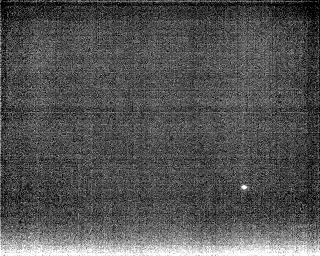AIRPLANE: (239, 182, 250, 194)
